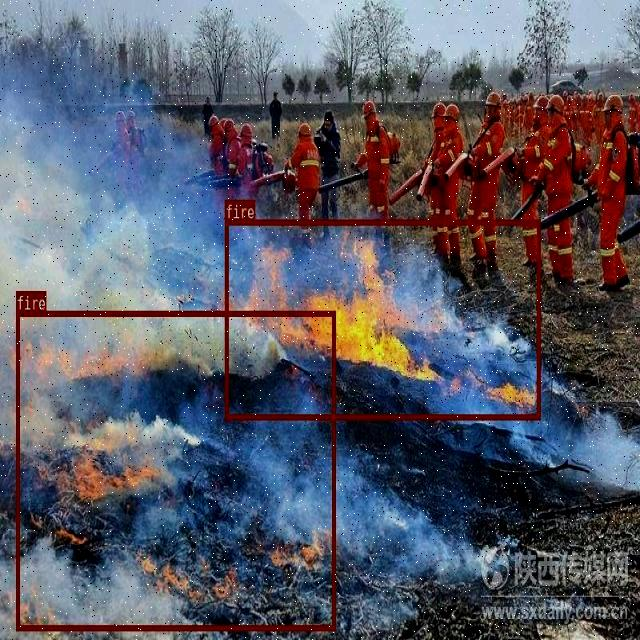fire: (16, 310, 335, 630), (225, 218, 540, 418)
